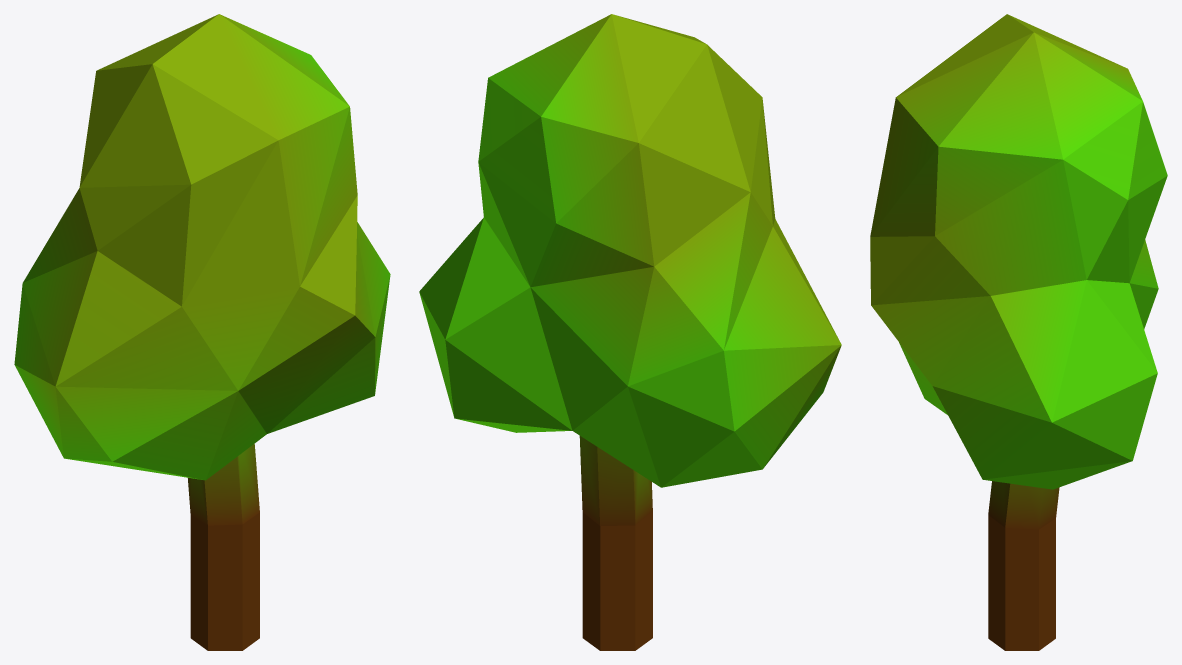
Rendered from tree_3.fbx.
3 renders of one model, left to right at view 1: azimuth 30°, elevation 25°; view 2: azimuth 150°, elevation 25°; view 3: azimuth 270°, elevation 25°, orthographic. The views are drawn at different scales.
Parts seen in each view (by area): view 1: tree_5; view 2: tree_5; view 3: tree_5.
Boxes of the visible parts, <box> form: tree_5: <box>14,14,390,650</box>; tree_5: <box>419,14,841,650</box>; tree_5: <box>870,14,1167,650</box>.
Size of the model in its own units: 4.47 by 7.04 by 3.13.
